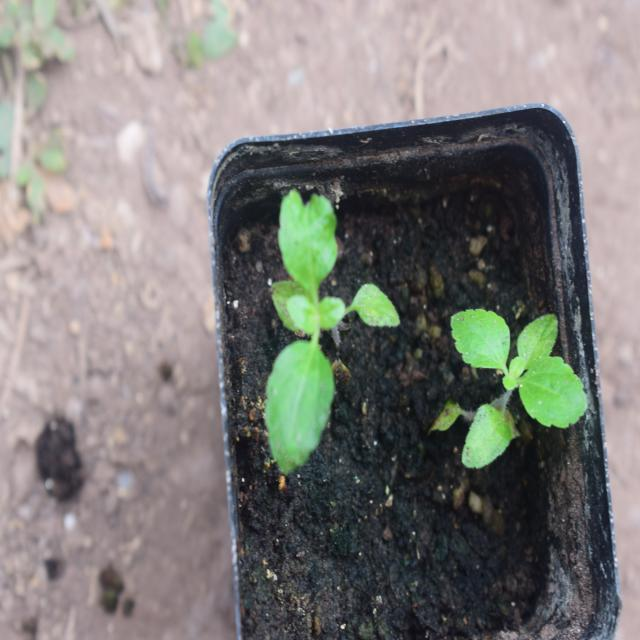billygoat_weed: (260, 192, 385, 475), (452, 294, 582, 491)
